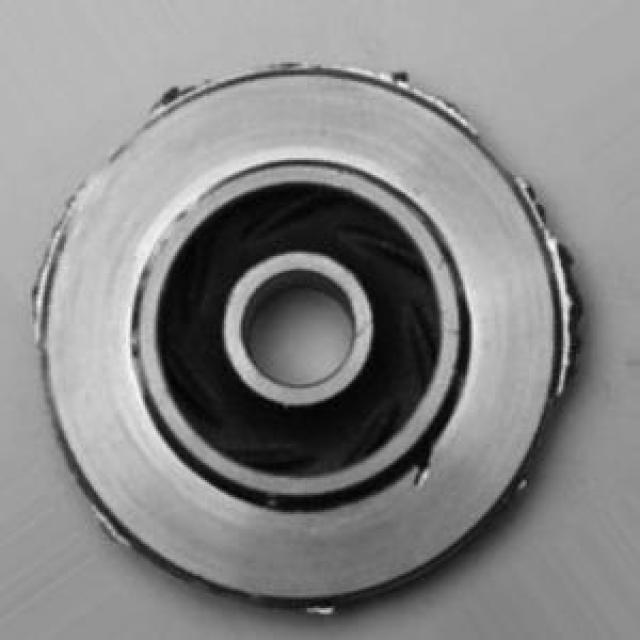Defect: (547, 244, 596, 335)
